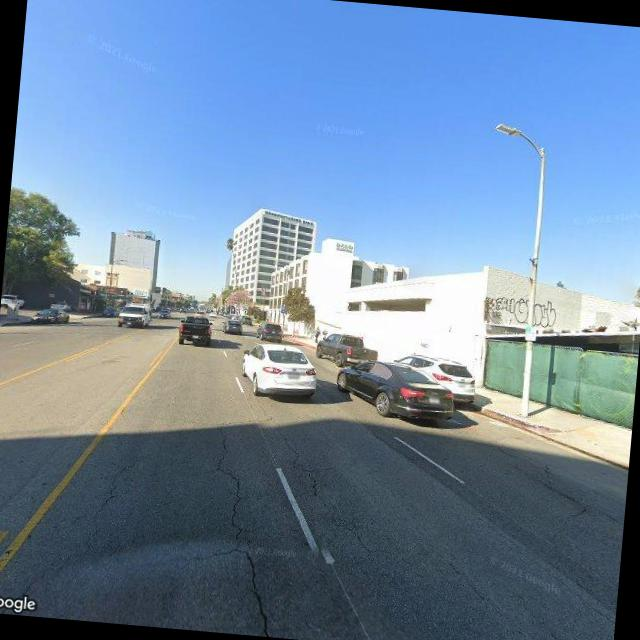pothole: (190, 422, 302, 637), (261, 414, 383, 556), (77, 447, 139, 558)
